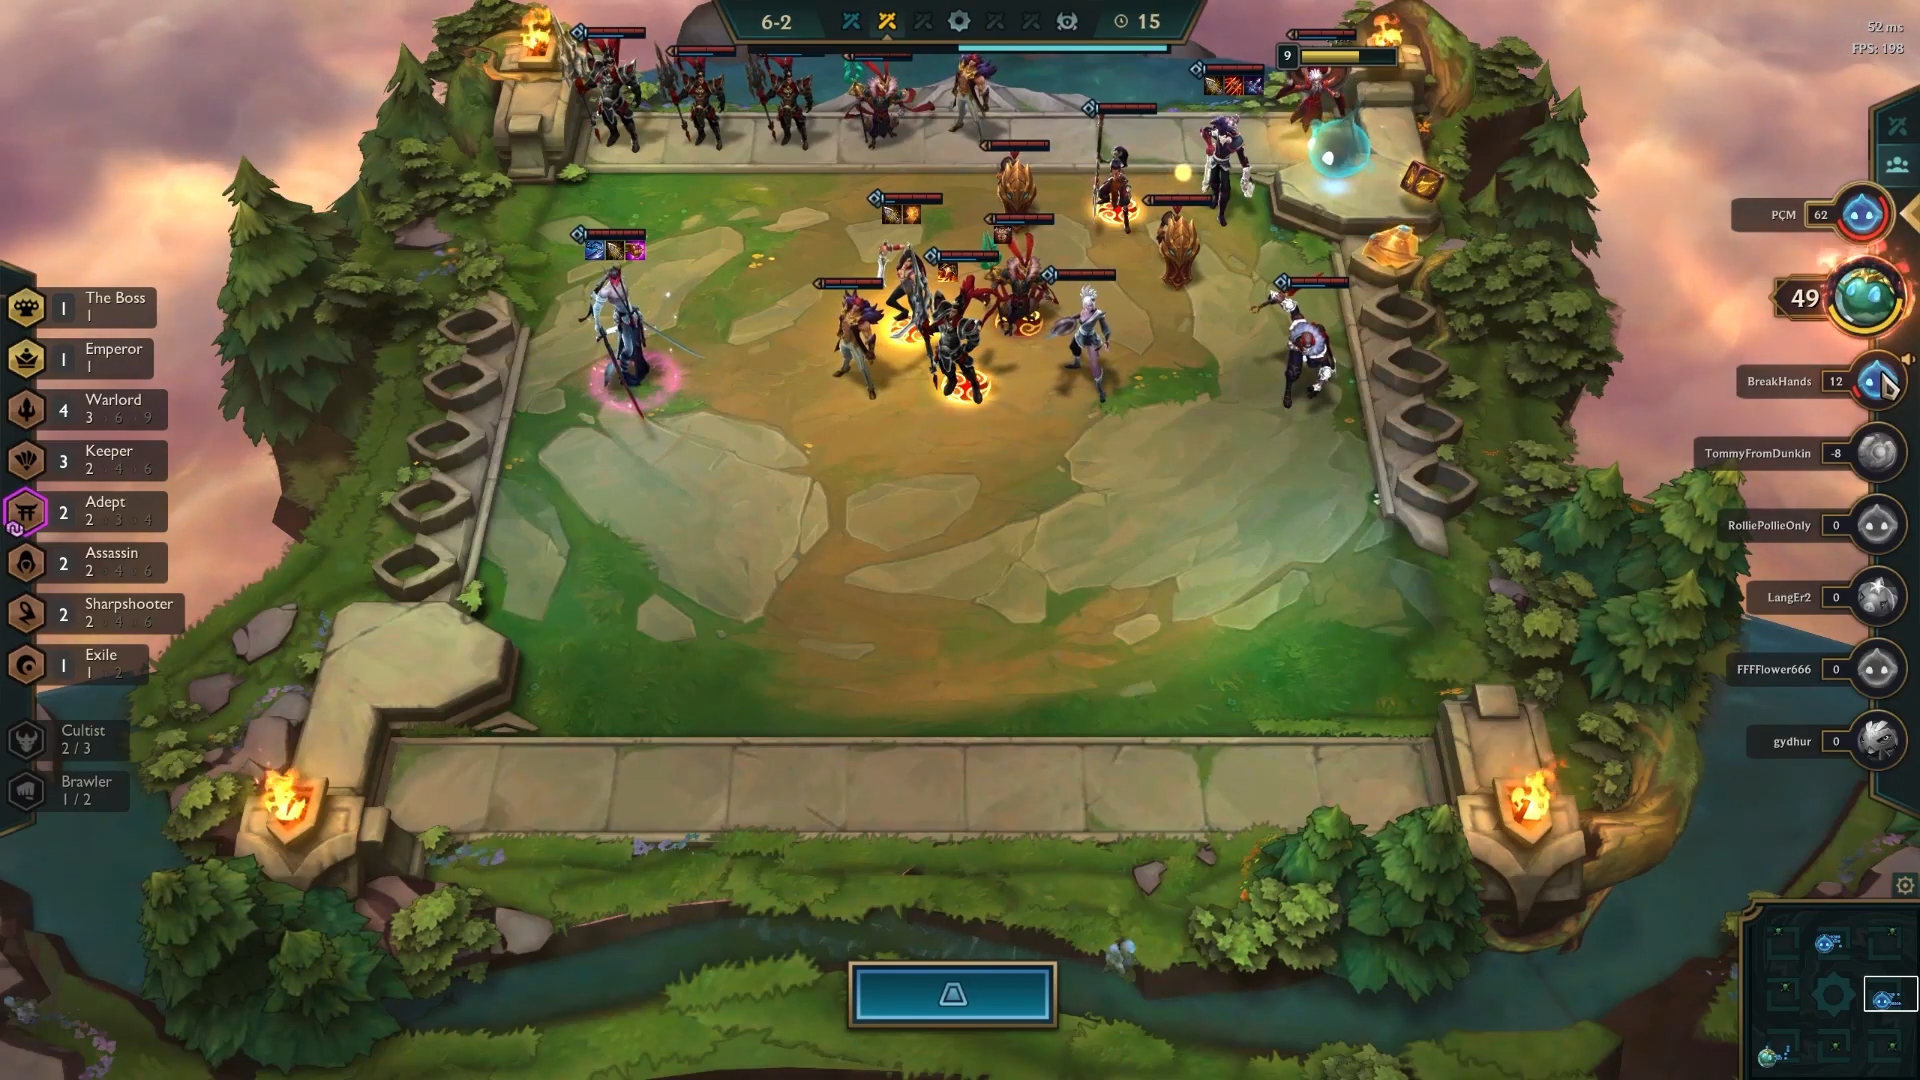1star_azir: (948, 193, 1072, 351)
1star_azirsoldier: (1134, 187, 1225, 301), (967, 124, 1058, 237)
1star_sett: (803, 266, 899, 411)
2star_jarvaniv: (891, 232, 1021, 419), (543, 1, 658, 161)
2star_jhin: (1180, 53, 1276, 233)
2star_katarina: (847, 174, 969, 361)
2star_nidalee: (1065, 88, 1168, 243)
2star_pyke: (1240, 258, 1367, 429)
2star_yone: (560, 214, 715, 433)
2star_yone_chosen: (558, 212, 713, 430)
item_bramble: (990, 219, 1015, 247)
item_giantslayer: (582, 236, 608, 262)
item_hoj: (899, 200, 926, 227)
item_ie: (876, 200, 902, 227), (603, 237, 628, 264), (1201, 71, 1226, 98)
item_jeweledgauntlet: (622, 236, 649, 262)
item_lastwhisper: (1241, 70, 1267, 98)
item_runaan: (1221, 71, 1247, 98)
item_sunfire: (935, 257, 961, 284)
trait_adept2: (1, 484, 179, 541)
trait_assassin2: (1, 539, 179, 585)
trait_brawler1: (1, 761, 179, 818)
trait_cultist2: (1, 709, 179, 766)
trait_emperor1: (1, 336, 179, 382)
trait_exile1: (1, 640, 179, 696)
trait_keeper3: (1, 434, 179, 481)
trait_sharpshooter2: (1, 591, 196, 640)
trait_theboss1: (1, 282, 179, 328)
trait_warlord4: (1, 384, 179, 431)
